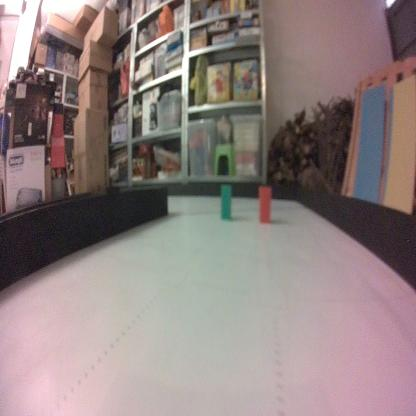green: (218, 181, 232, 221)
red: (256, 181, 274, 226)
